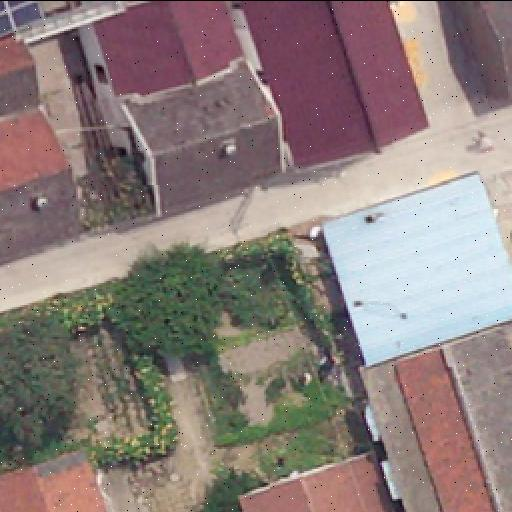solar-panel: (0, 0, 49, 39)
